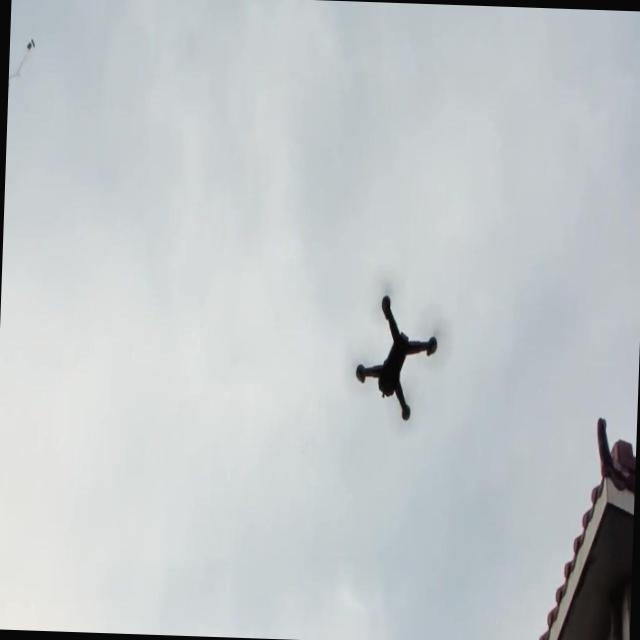drone: (351, 292, 439, 423)
